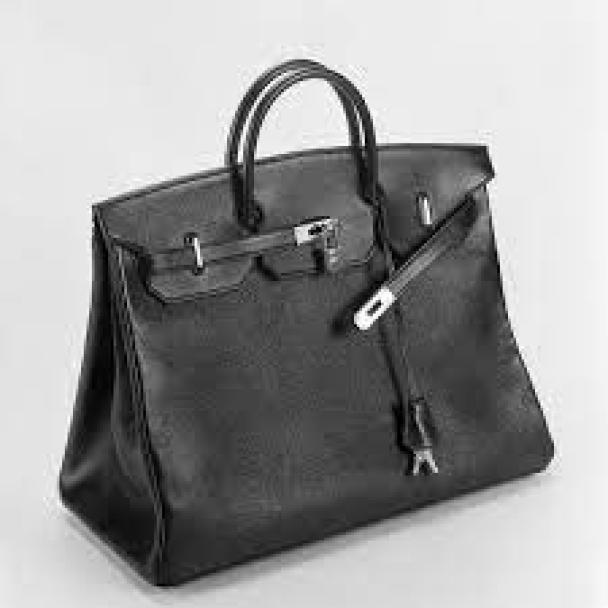Tas: (59, 139, 560, 582)
